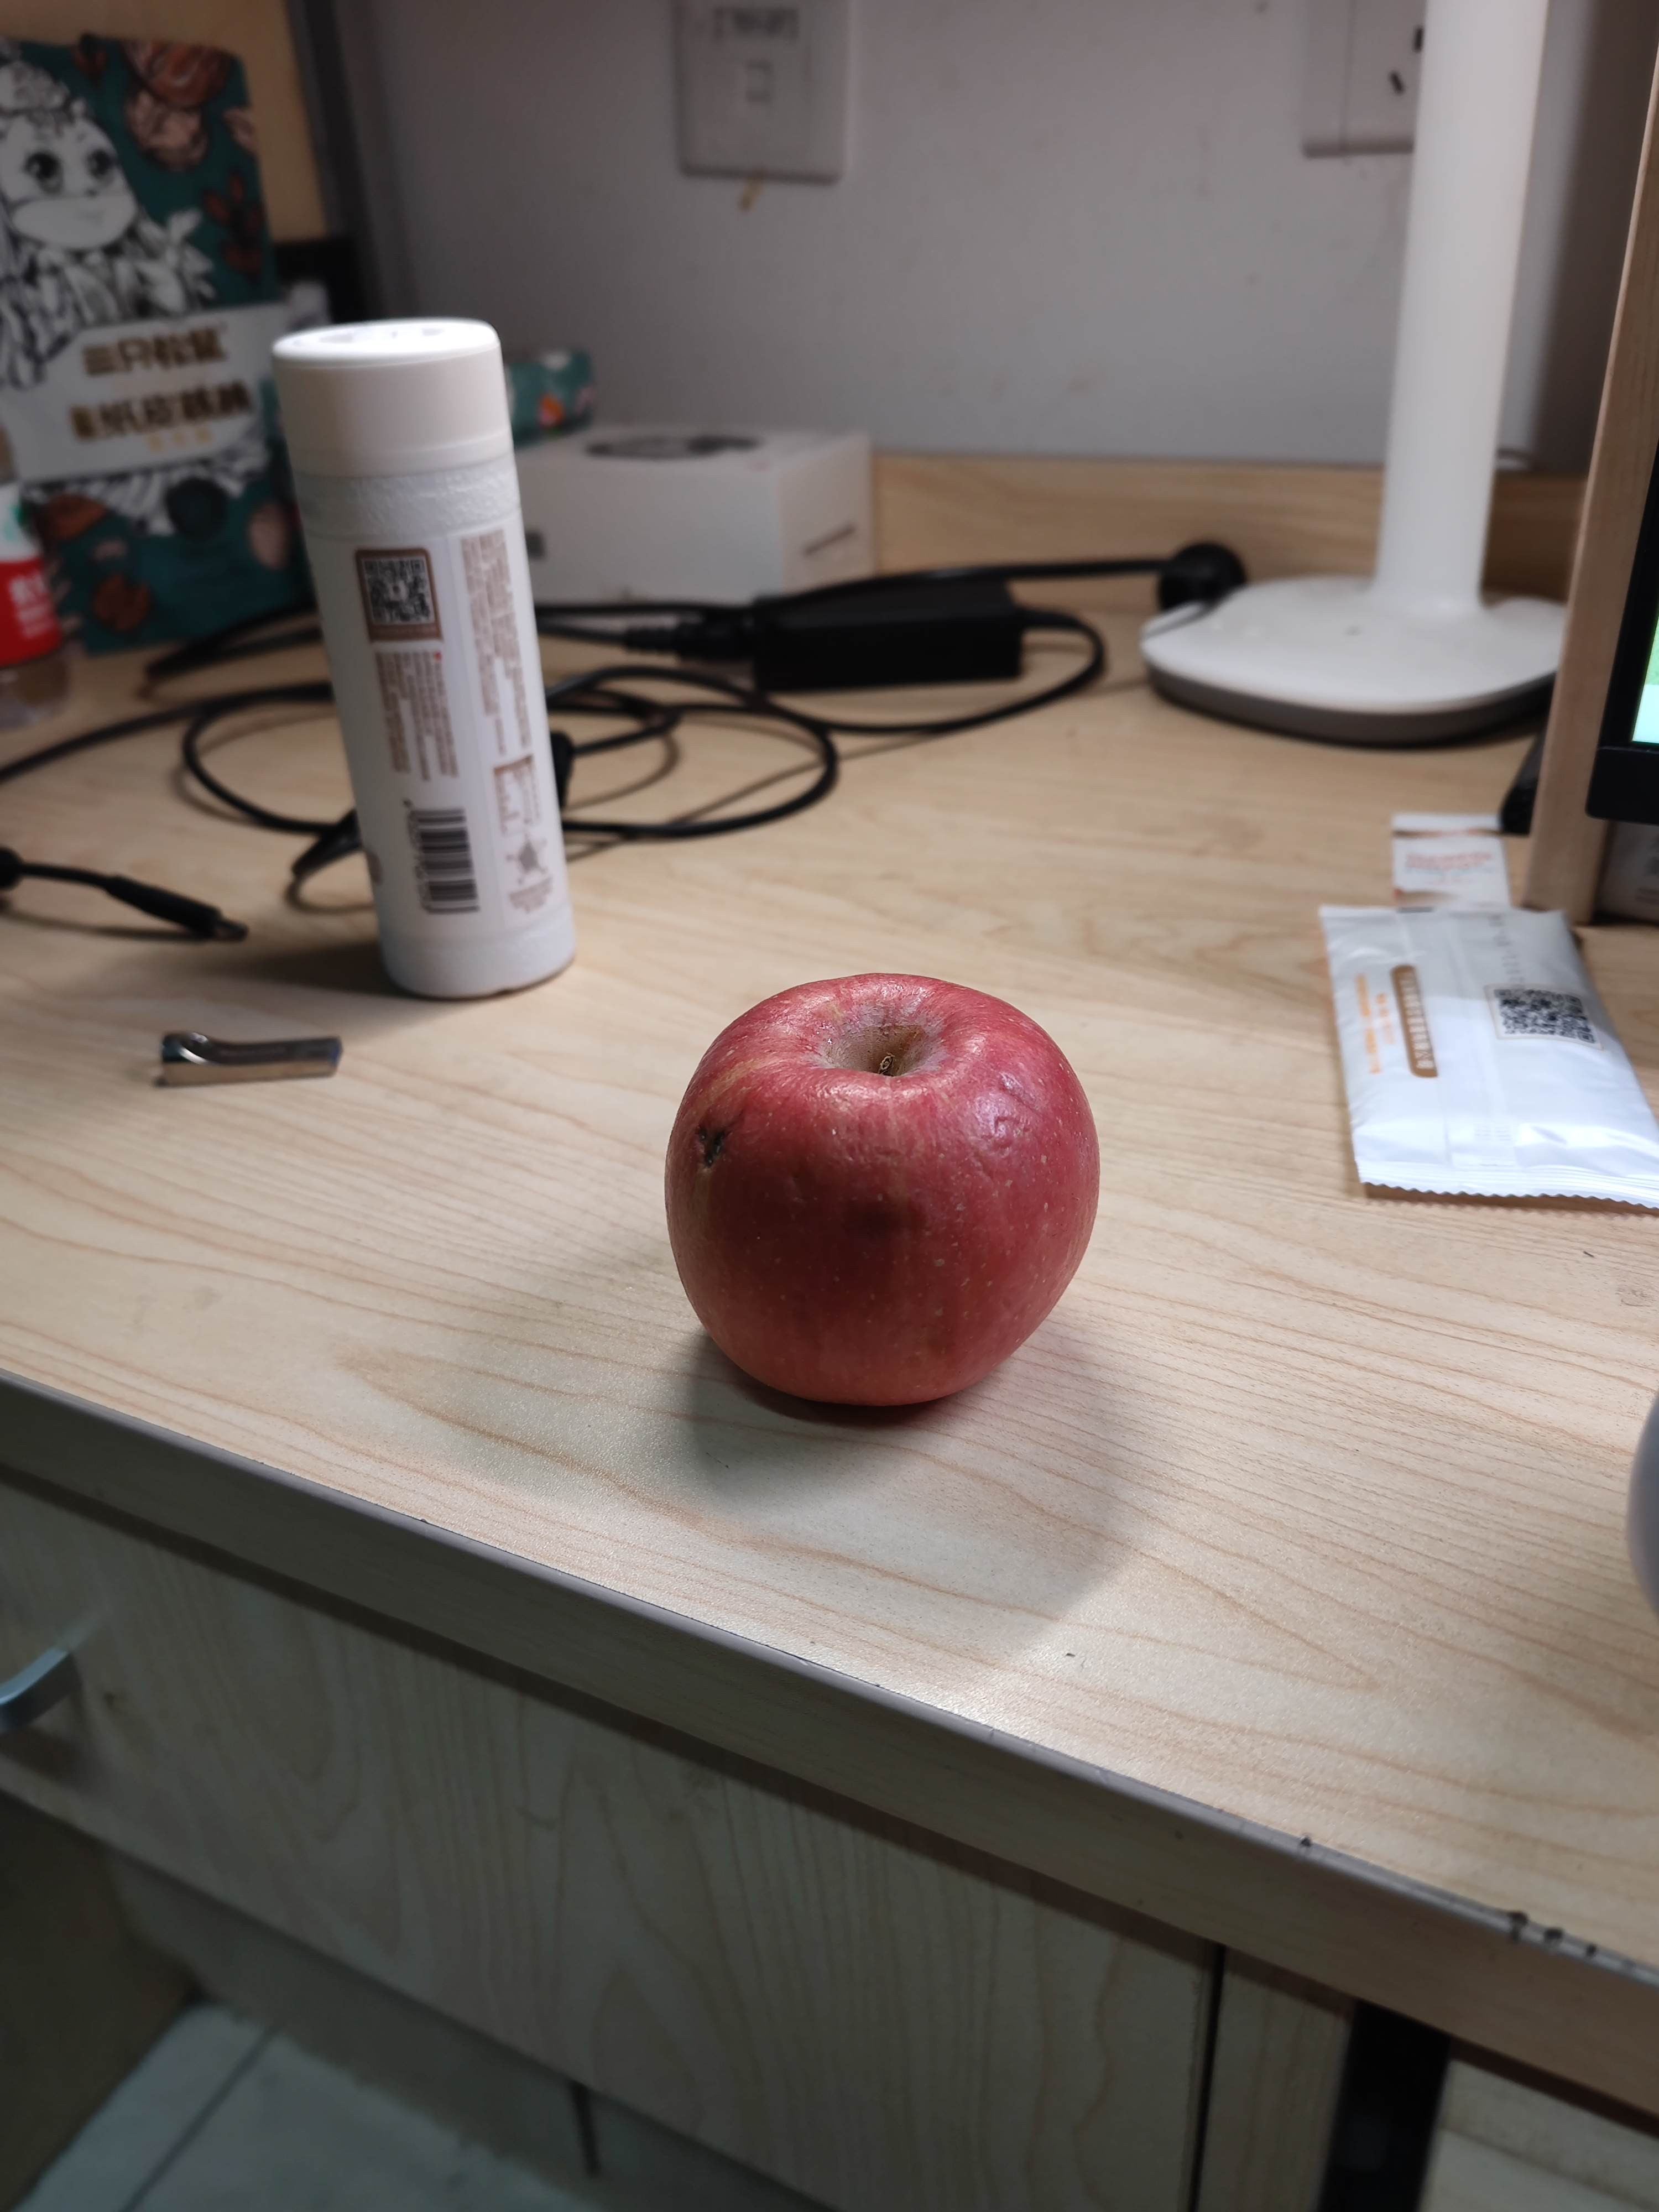apple: (667, 974, 1093, 1414)
